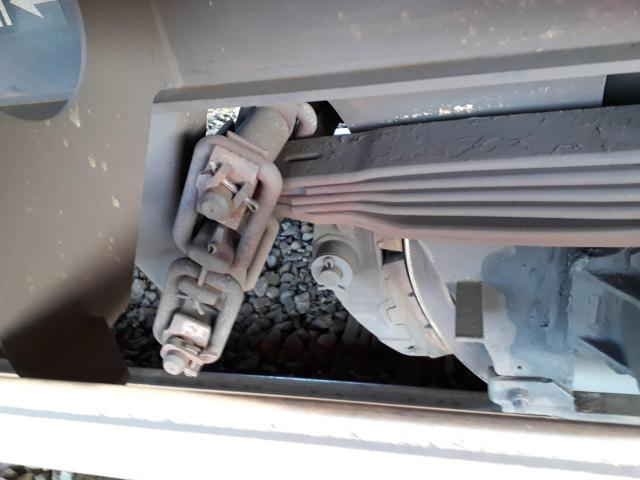blattfederww: (233, 134, 640, 245)
